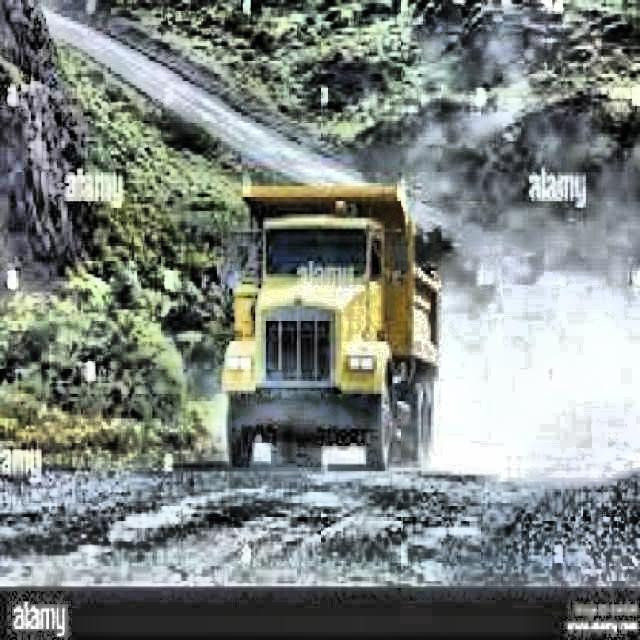dump_truck: (201, 174, 453, 486)
